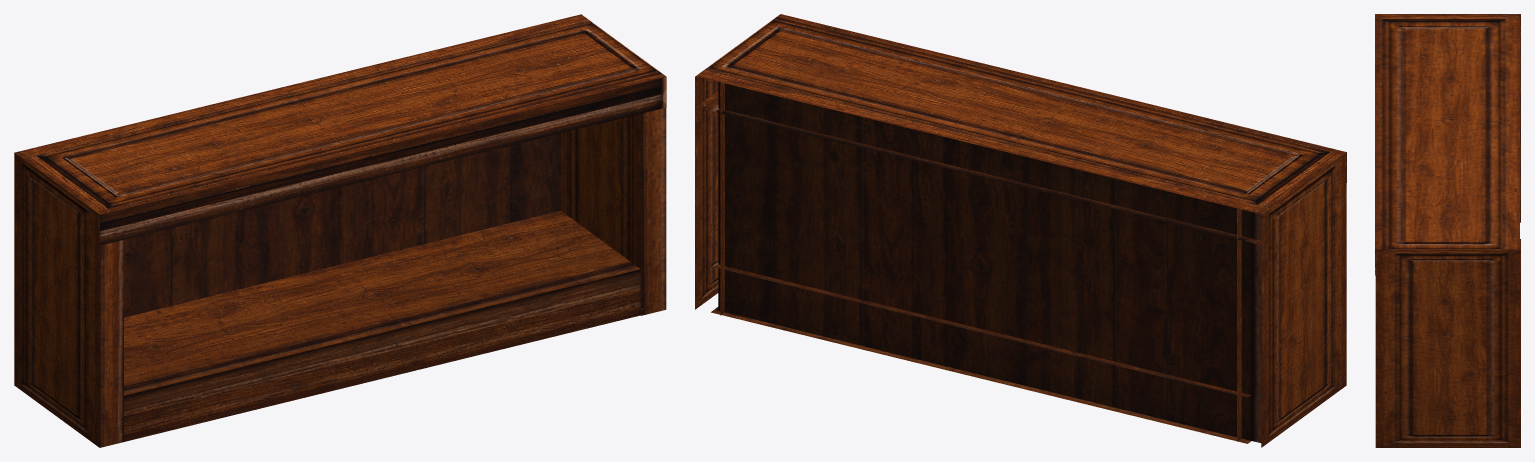
The model's file is mm9_deco_weaponscabinet03.glb.
The picture shows the model from 3 angles, left to right: view 1: azimuth 30°, elevation 25°; view 2: azimuth 150°, elevation 25°; view 3: azimuth 270°, elevation 25°; orthographic projection. The views are drawn at different scales.
Parts seen in each view (by area): view 1: Weaponscabinet03; view 2: Weaponscabinet03; view 3: Weaponscabinet03.
Part boxes in pixels (bbox=[...]): Weaponscabinet03: bbox=[14, 14, 666, 447]; Weaponscabinet03: bbox=[695, 14, 1346, 447]; Weaponscabinet03: bbox=[1375, 14, 1520, 447].
Size of the model in its own units: 3.76 by 1.48 by 0.9834.
Materials: 1 (1 with a texture image).
